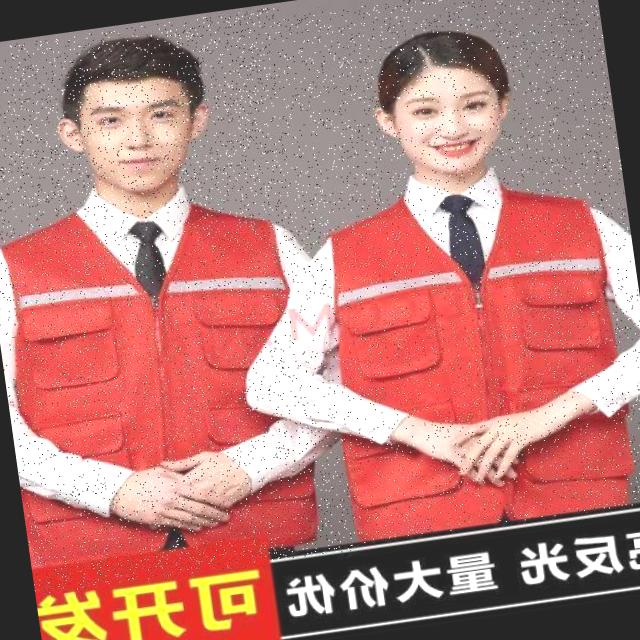no-gloves: (106, 451, 232, 547), (449, 407, 547, 488), (164, 444, 255, 512)
no-helmet: (46, 21, 226, 205), (358, 19, 526, 186)
vest: (0, 175, 333, 575), (317, 163, 640, 542)
